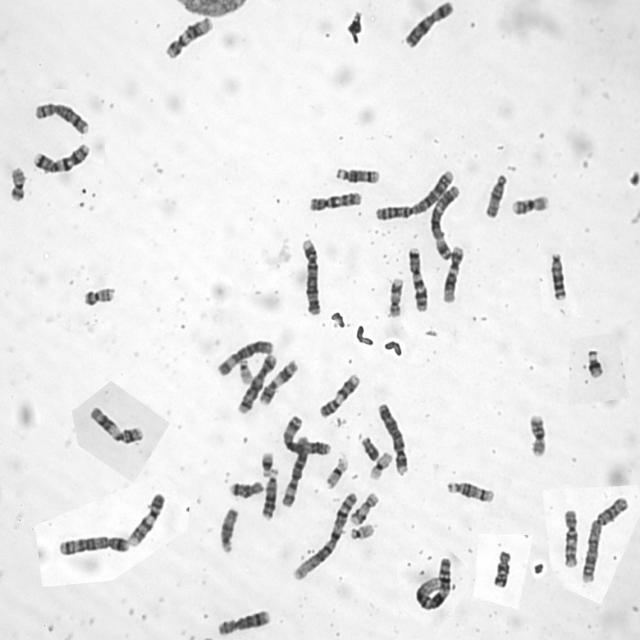A1: (289, 488, 359, 582), (411, 552, 454, 612)
A2: (576, 492, 630, 584), (371, 165, 456, 222)
A3: (426, 180, 463, 262), (278, 411, 332, 456)
B4: (374, 398, 410, 476), (297, 234, 323, 317)
B5: (234, 349, 278, 415), (54, 531, 130, 557)
C10: (305, 187, 363, 213), (559, 503, 580, 570)
C11: (85, 401, 145, 445), (255, 354, 300, 406)
C12: (160, 12, 214, 60), (439, 241, 465, 304)
C6: (213, 335, 275, 378), (277, 431, 311, 508)
C7: (28, 138, 92, 174), (404, 242, 430, 313)
C8: (30, 97, 90, 136), (213, 604, 272, 637)
C9: (124, 488, 166, 548), (315, 368, 361, 418)
D13: (257, 464, 280, 520), (546, 247, 568, 301)
D14: (442, 476, 496, 504), (331, 162, 381, 185)
D15: (481, 169, 508, 219), (215, 503, 240, 555)
E16: (524, 409, 548, 458), (507, 189, 550, 216)
E17: (346, 488, 379, 526), (384, 273, 404, 319)
E18: (489, 546, 513, 589), (225, 476, 265, 500)
F19: (321, 451, 350, 489), (366, 448, 394, 481)
F20: (79, 281, 117, 307), (5, 161, 28, 203)
G21: (583, 344, 605, 379), (257, 447, 276, 478)
G22: (346, 518, 376, 540), (236, 355, 254, 385)
X: (400, 0, 455, 49)
Y: (356, 432, 381, 462)
